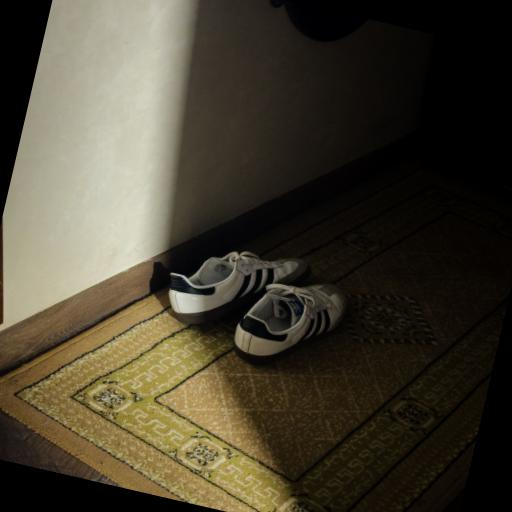shoe: (168, 252, 309, 324), (234, 284, 345, 364)
